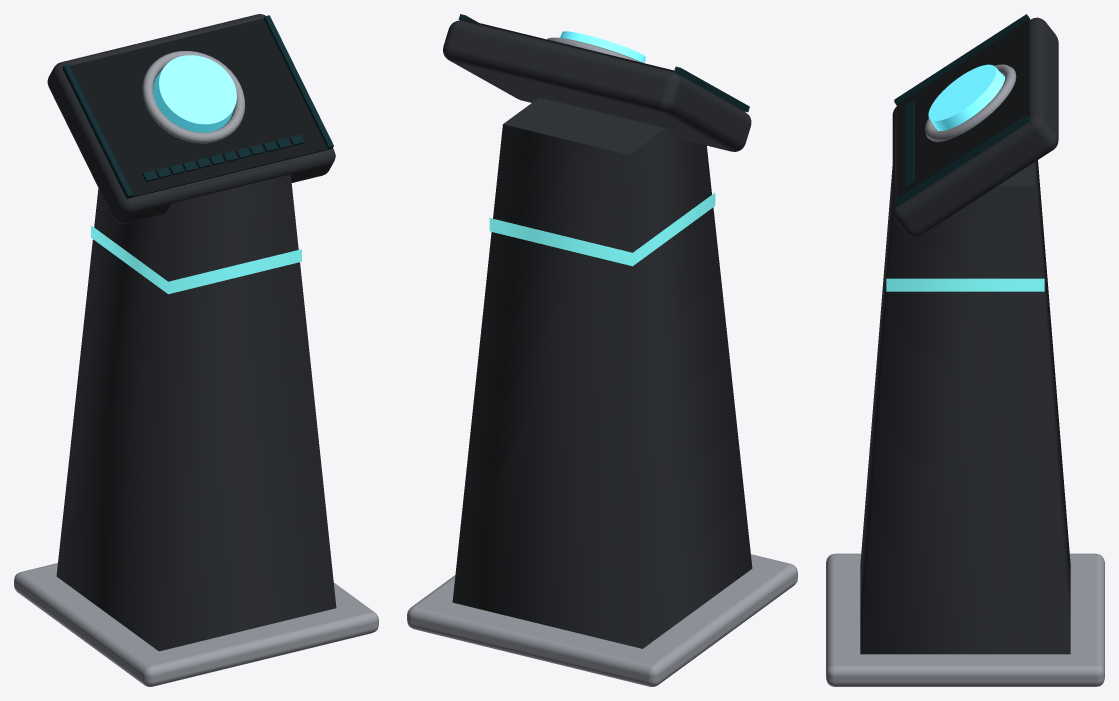
The model's file is push_console.glb.
3 views of the same model, side by side, from view 1: azimuth 30°, elevation 25°; view 2: azimuth 150°, elevation 25°; view 3: azimuth 270°, elevation 25° (orthographic). The views are drawn at different scales.
Parts seen in each view (by area): view 1: group, cap, lamps_0, lamps_1; view 2: group, cap, lamps_0; view 3: group, cap, lamps_1, lamps_0.
Part boxes in pixels (x1,y1,x2,y2): group: (14, 14, 378, 686); cap: (153, 55, 236, 132); lamps_0: (62, 64, 132, 198); lamps_1: (263, 15, 333, 149); group: (407, 19, 797, 686); cap: (560, 31, 645, 63); lamps_0: (674, 66, 749, 112); group: (826, 17, 1104, 686); cap: (928, 64, 1005, 130); lamps_1: (894, 115, 1029, 206); lamps_0: (894, 14, 1029, 104).
Bounding box in the file's own units: 0.48 × 1.07 × 0.48.
